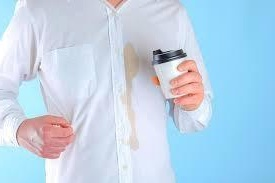coffee: (120, 43, 140, 151)
